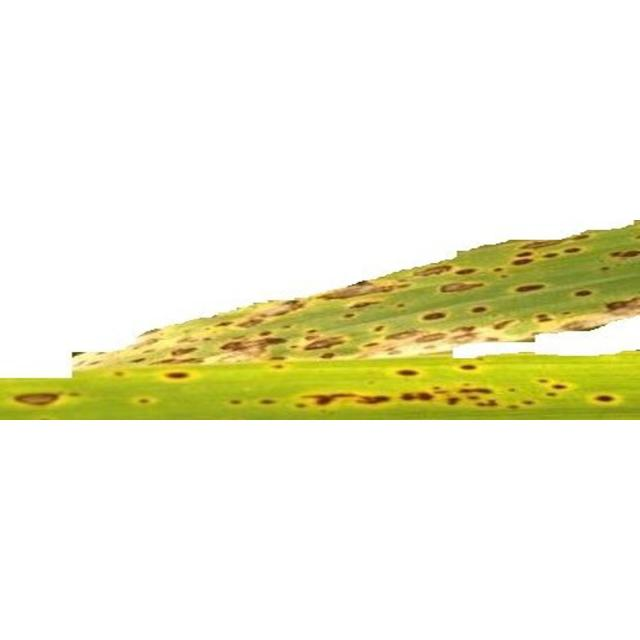Brown spot: (0, 208, 640, 450)
